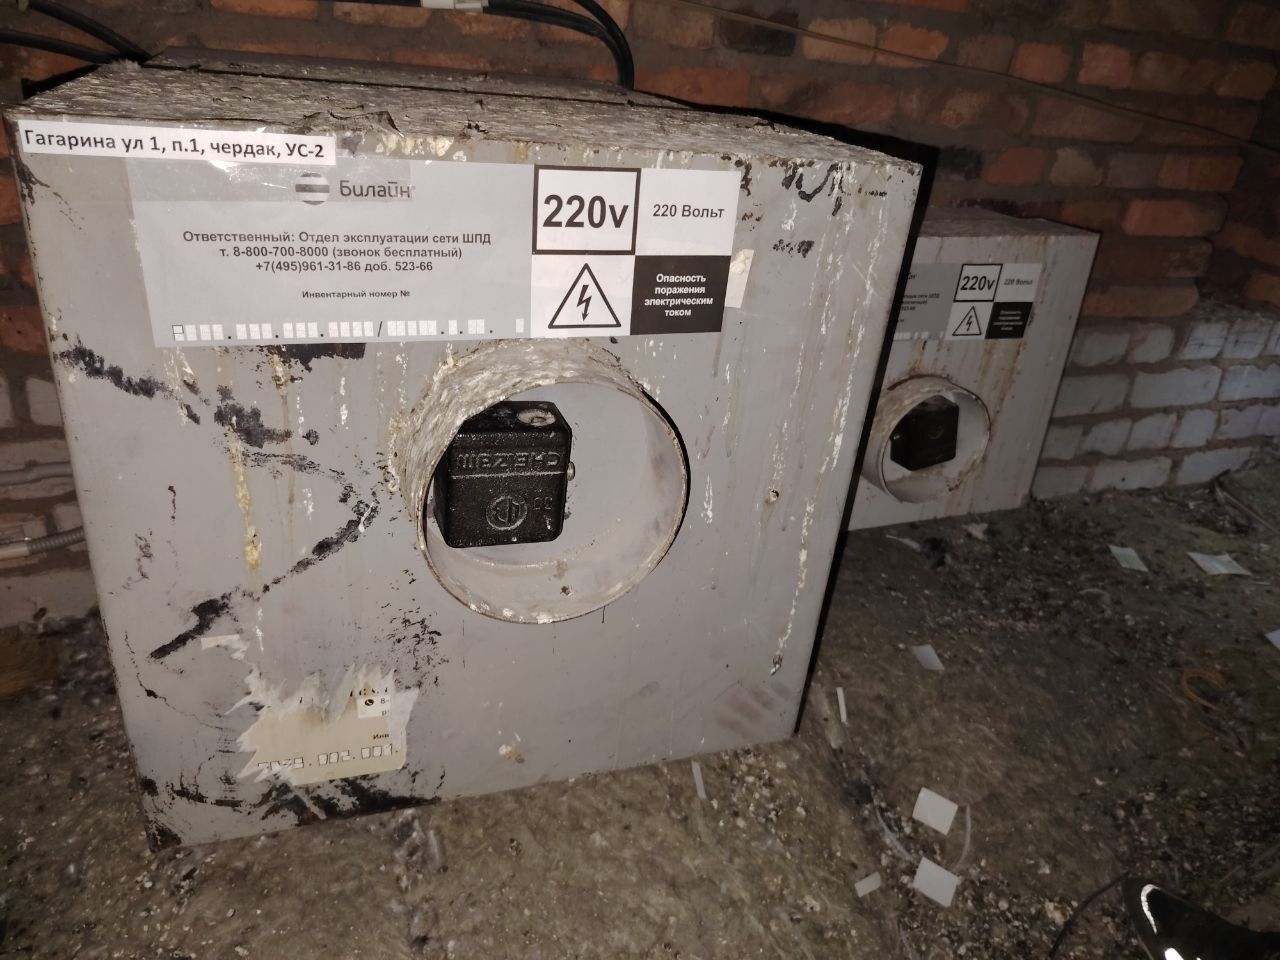shta-3: (851, 196, 1103, 527)
shta-9: (2, 42, 939, 853)
